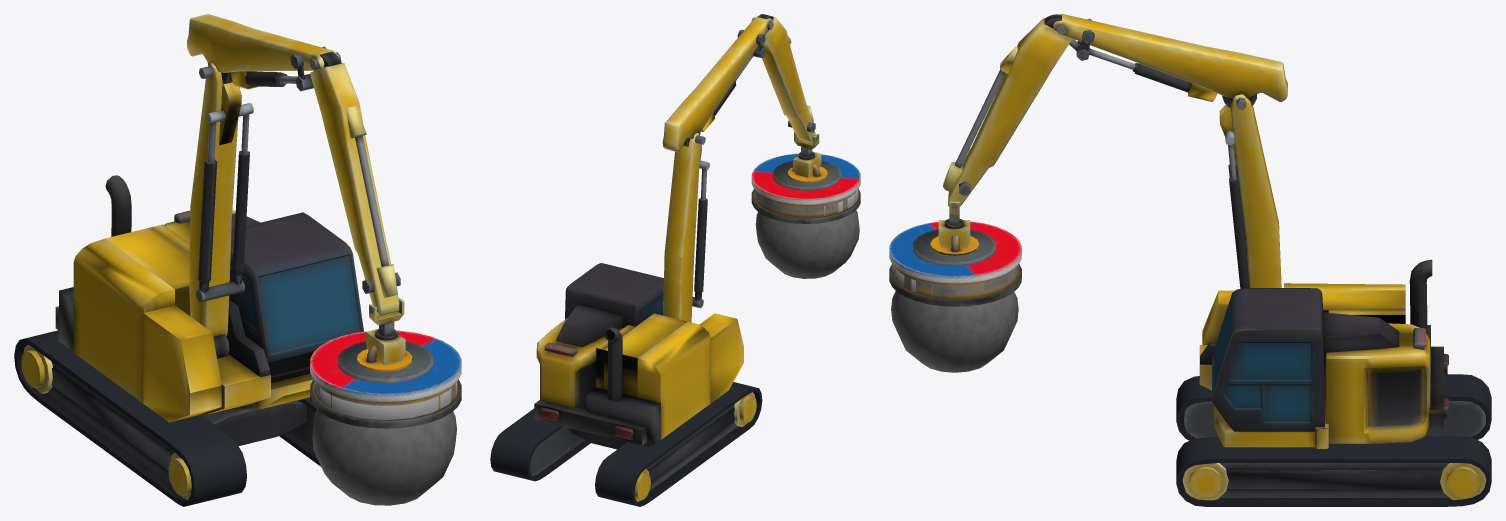
The model's file is vehicle-v3.glb.
3 views of the same model, side by side, from view 1: azimuth 30°, elevation 25°; view 2: azimuth 150°, elevation 25°; view 3: azimuth 270°, elevation 25° (orthographic). The views are drawn at different scales.
Parts seen in each view (by area): view 1: body, Crane_Pipe, Crane, Magnet4.001, Magnet3.001, Magnet2.001; view 2: body, Crane_Pipe, Crane, Magnet4.001, Magnet3.001, Magnet2.001; view 3: body, Crane_Pipe, Crane, Magnet4.001, Magnet3.001, Magnet2.001.
Boxes of the visible parts, bbox=[...] form: body: bbox=[55, 175, 363, 422]; Crane_Pipe: bbox=[187, 14, 405, 365]; Crane: bbox=[14, 330, 320, 506]; Magnet4.001: bbox=[312, 344, 456, 505]; Magnet3.001: bbox=[310, 330, 461, 428]; Magnet2.001: bbox=[314, 341, 456, 419]; body: bbox=[534, 263, 743, 447]; Crane_Pipe: bbox=[662, 14, 821, 322]; Crane: bbox=[490, 382, 762, 506]; Magnet4.001: bbox=[755, 163, 859, 278]; Magnet3.001: bbox=[751, 153, 860, 223]; Magnet2.001: bbox=[773, 160, 858, 215]; body: bbox=[1199, 259, 1448, 448]; Crane_Pipe: bbox=[938, 14, 1287, 288]; Crane: bbox=[1176, 374, 1491, 506]; Magnet4.001: bbox=[891, 234, 1018, 372]; Magnet3.001: bbox=[889, 221, 1021, 306]; Magnet2.001: bbox=[892, 229, 995, 296].
Size of the model in its own units: 4.42 by 10.53 by 13.27.
Materials: 6 (6 with a texture image).
